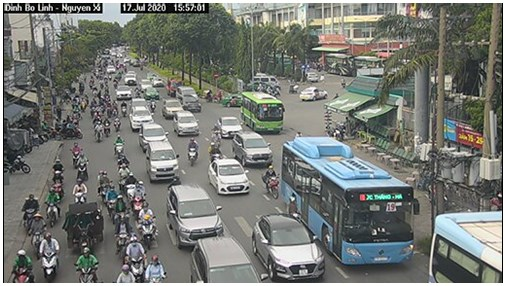xe_buyt: (280, 135, 419, 268), (237, 91, 283, 133)
xe_hoi: (249, 212, 324, 278), (167, 182, 224, 248), (207, 158, 250, 195), (144, 142, 185, 180), (232, 129, 272, 166), (138, 121, 171, 150), (172, 109, 199, 137), (126, 105, 155, 131)
xe_may: (37, 233, 61, 279), (137, 203, 158, 248), (112, 216, 133, 261), (10, 247, 34, 283), (76, 248, 100, 284), (126, 236, 144, 275), (262, 163, 280, 198), (45, 190, 62, 225), (23, 192, 40, 227), (112, 193, 129, 224), (75, 152, 89, 181), (187, 137, 199, 167), (51, 158, 64, 184), (69, 140, 82, 166), (113, 134, 127, 157), (93, 121, 104, 144), (102, 116, 113, 139), (209, 121, 220, 144)
